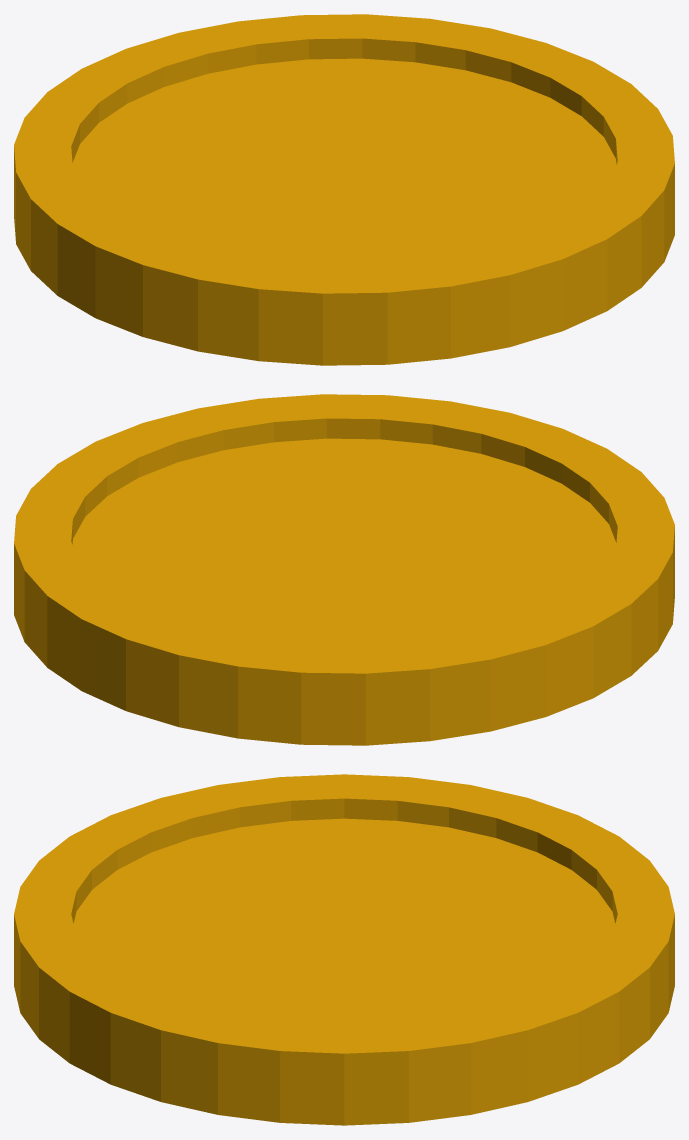
Rendered from Coin.fbx.
3 renders of one model, top to bottom at view 1: azimuth 30°, elevation 25°; view 2: azimuth 150°, elevation 25°; view 3: azimuth 270°, elevation 25°, orthographic.
Visible parts, largest first — view 1: Cylinder; view 2: Cylinder; view 3: Cylinder.
Boxes of the visible parts, <box> form: Cylinder: <box>14,14,674,365</box>; Cylinder: <box>14,394,674,745</box>; Cylinder: <box>14,774,674,1125</box>.
Bounding box in the file's own units: 200 × 28.96 × 200.
